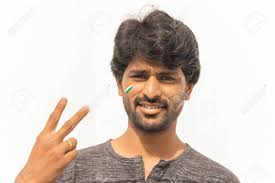Indian_Male: (118, 53, 194, 125)
